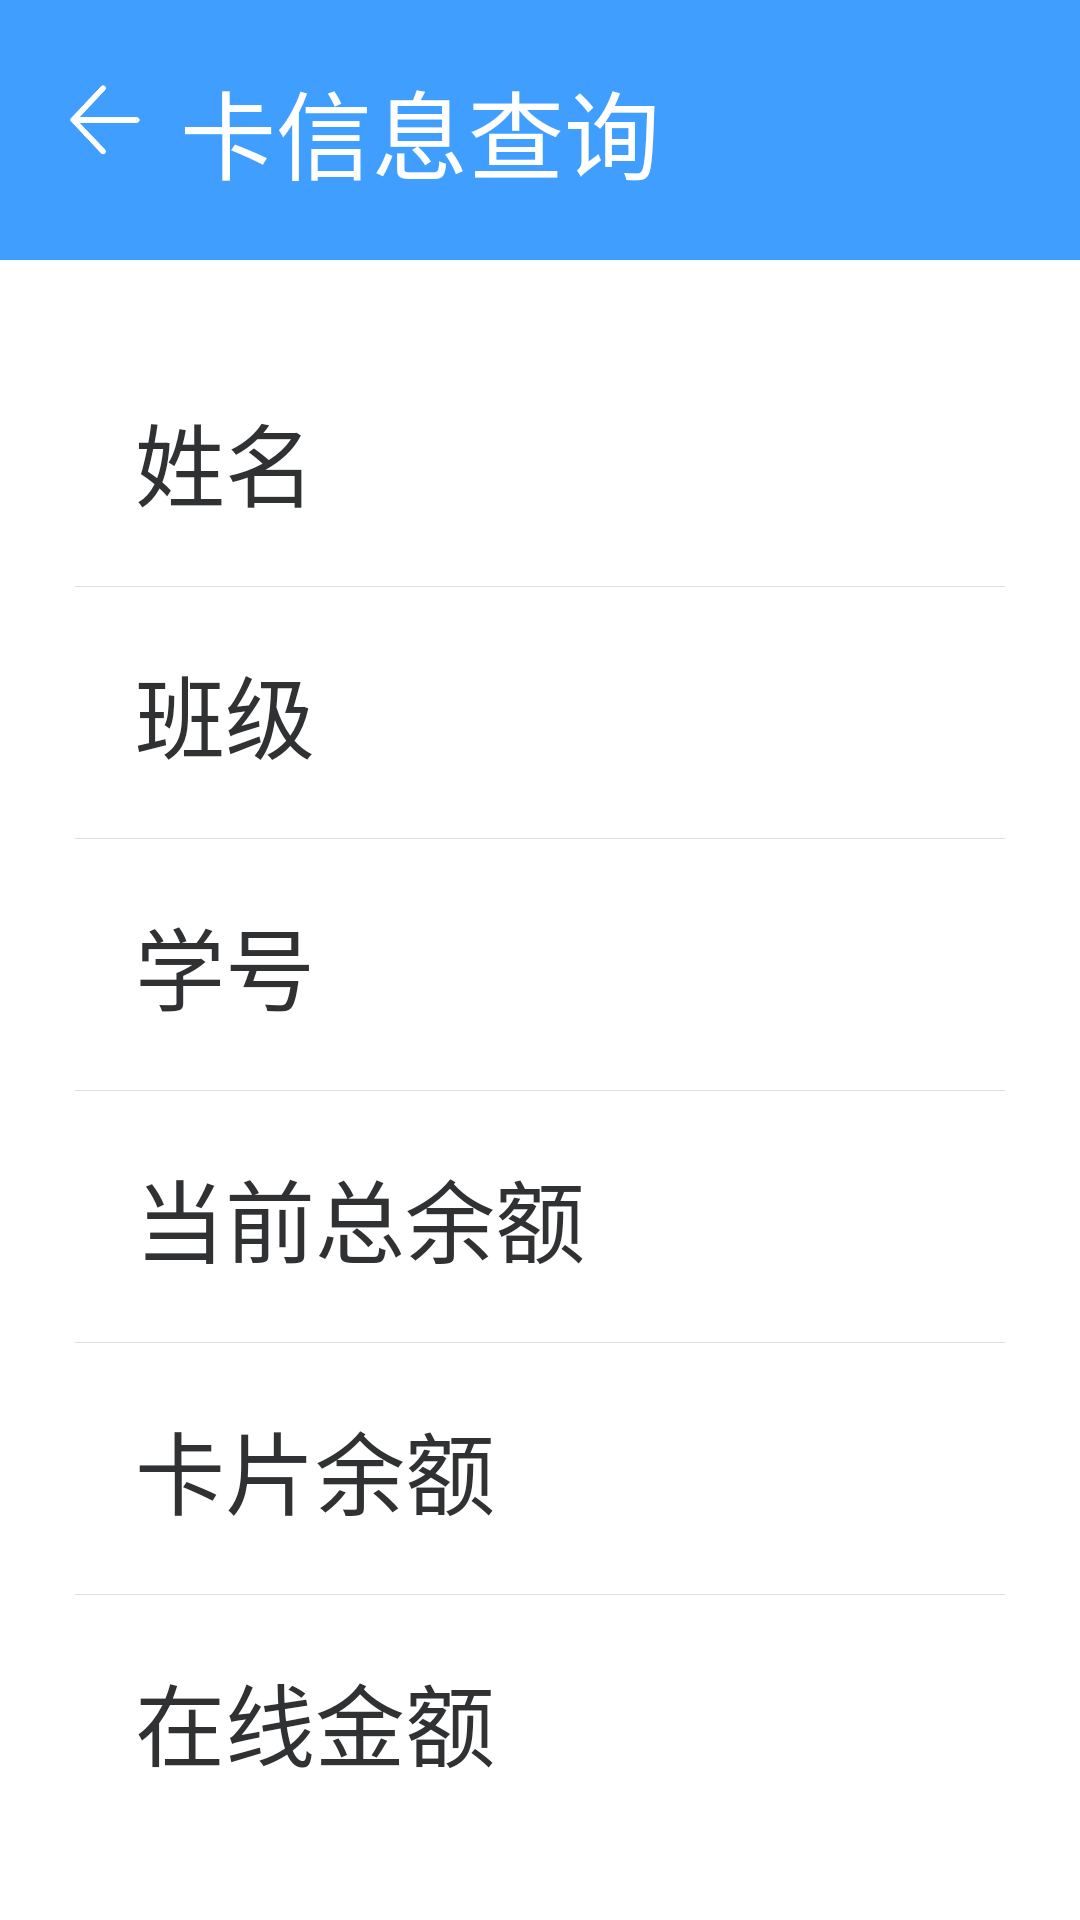

Screen size 1080×1920. Icon name, then its center in pixels as point (x, y):
direction left: point (105, 119)
